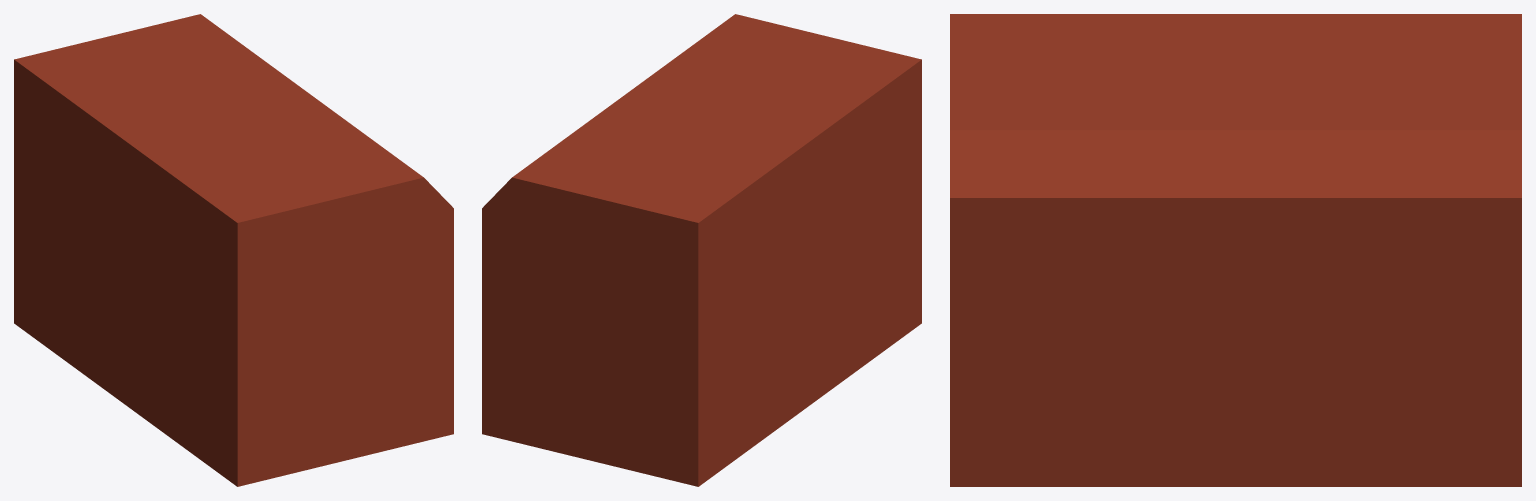
3 renders of one model, left to right at view 1: azimuth 30°, elevation 25°; view 2: azimuth 150°, elevation 25°; view 3: azimuth 270°, elevation 25°, orthographic. The views are drawn at different scales.
Parts seen in each view (by area): view 1: geometry_31; view 2: geometry_31; view 3: geometry_31.
Part boxes in pixels (bbox=[...]): geometry_31: bbox=[14, 14, 453, 486]; geometry_31: bbox=[482, 14, 921, 486]; geometry_31: bbox=[950, 14, 1521, 486].
Size of the model in its own units: 0.0224 by 0.0261 by 0.04.
